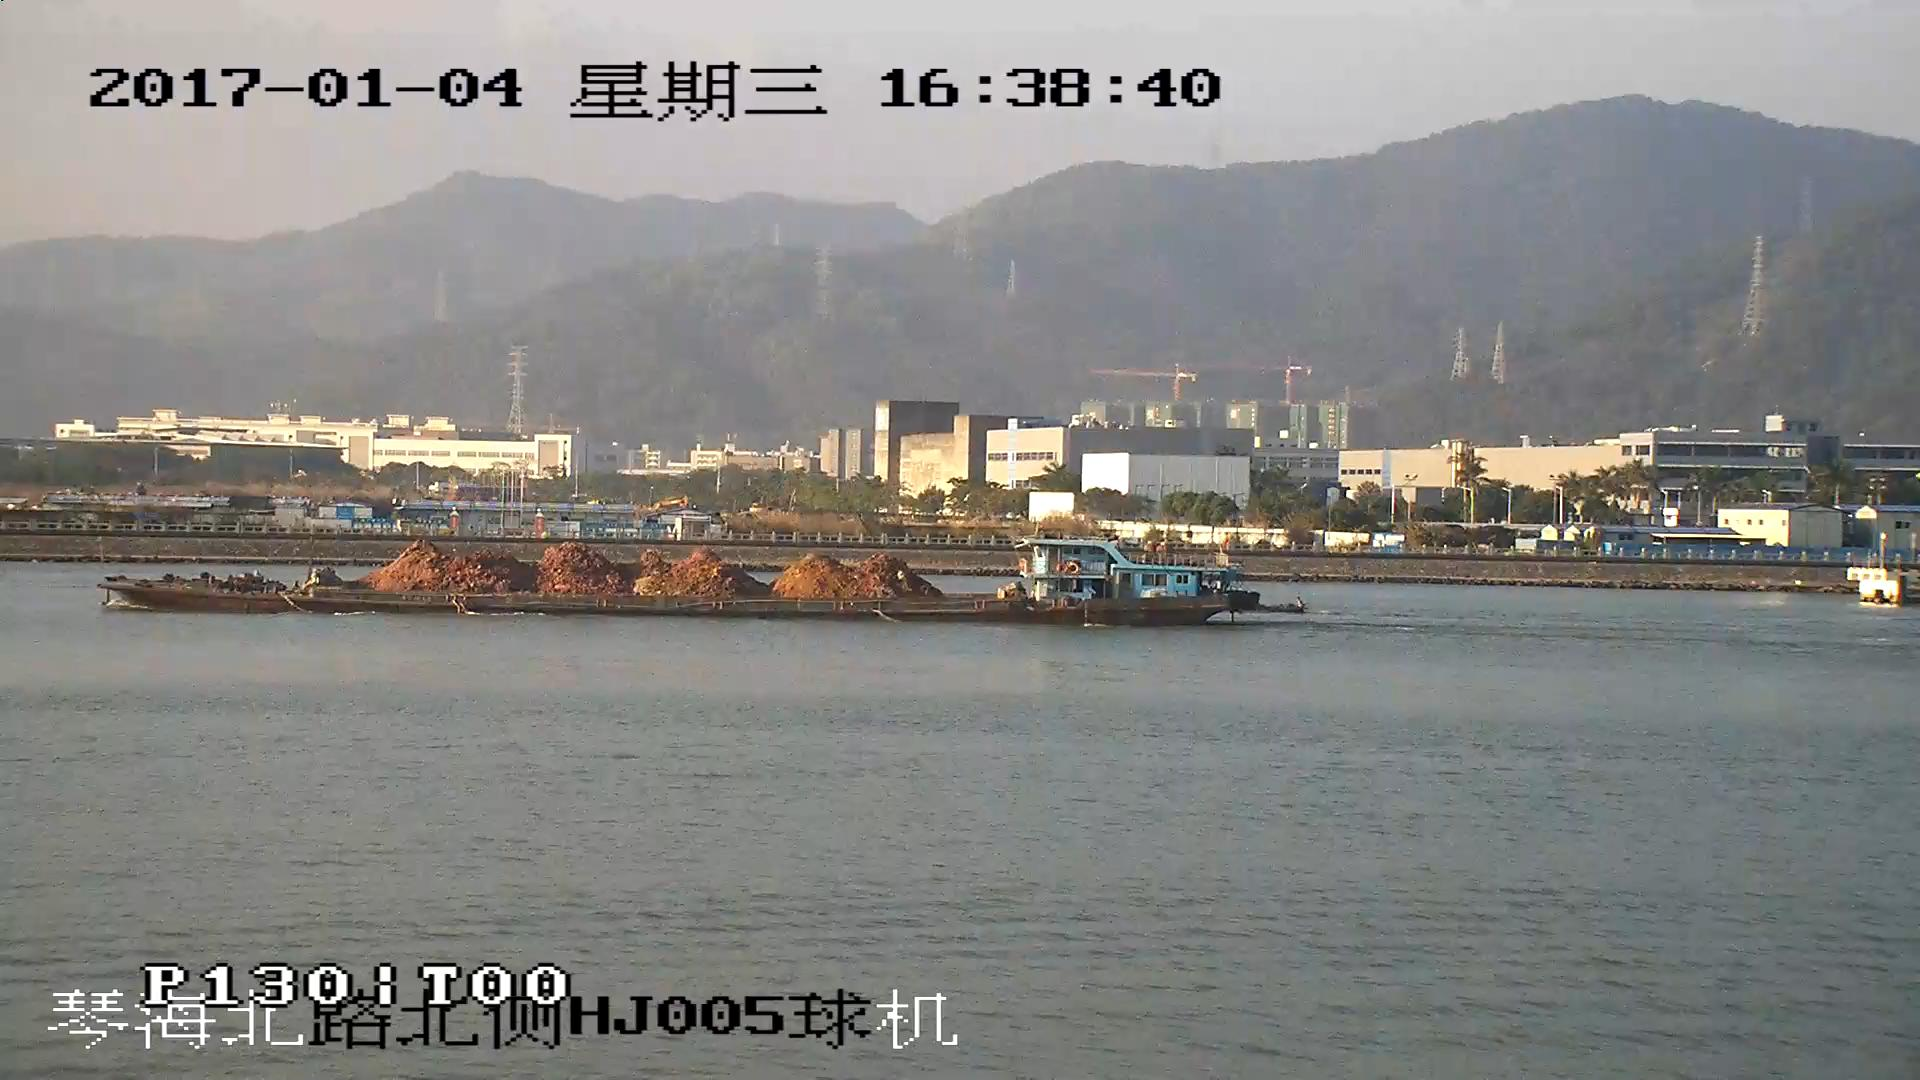ore carrier: (102, 537, 1263, 625)
